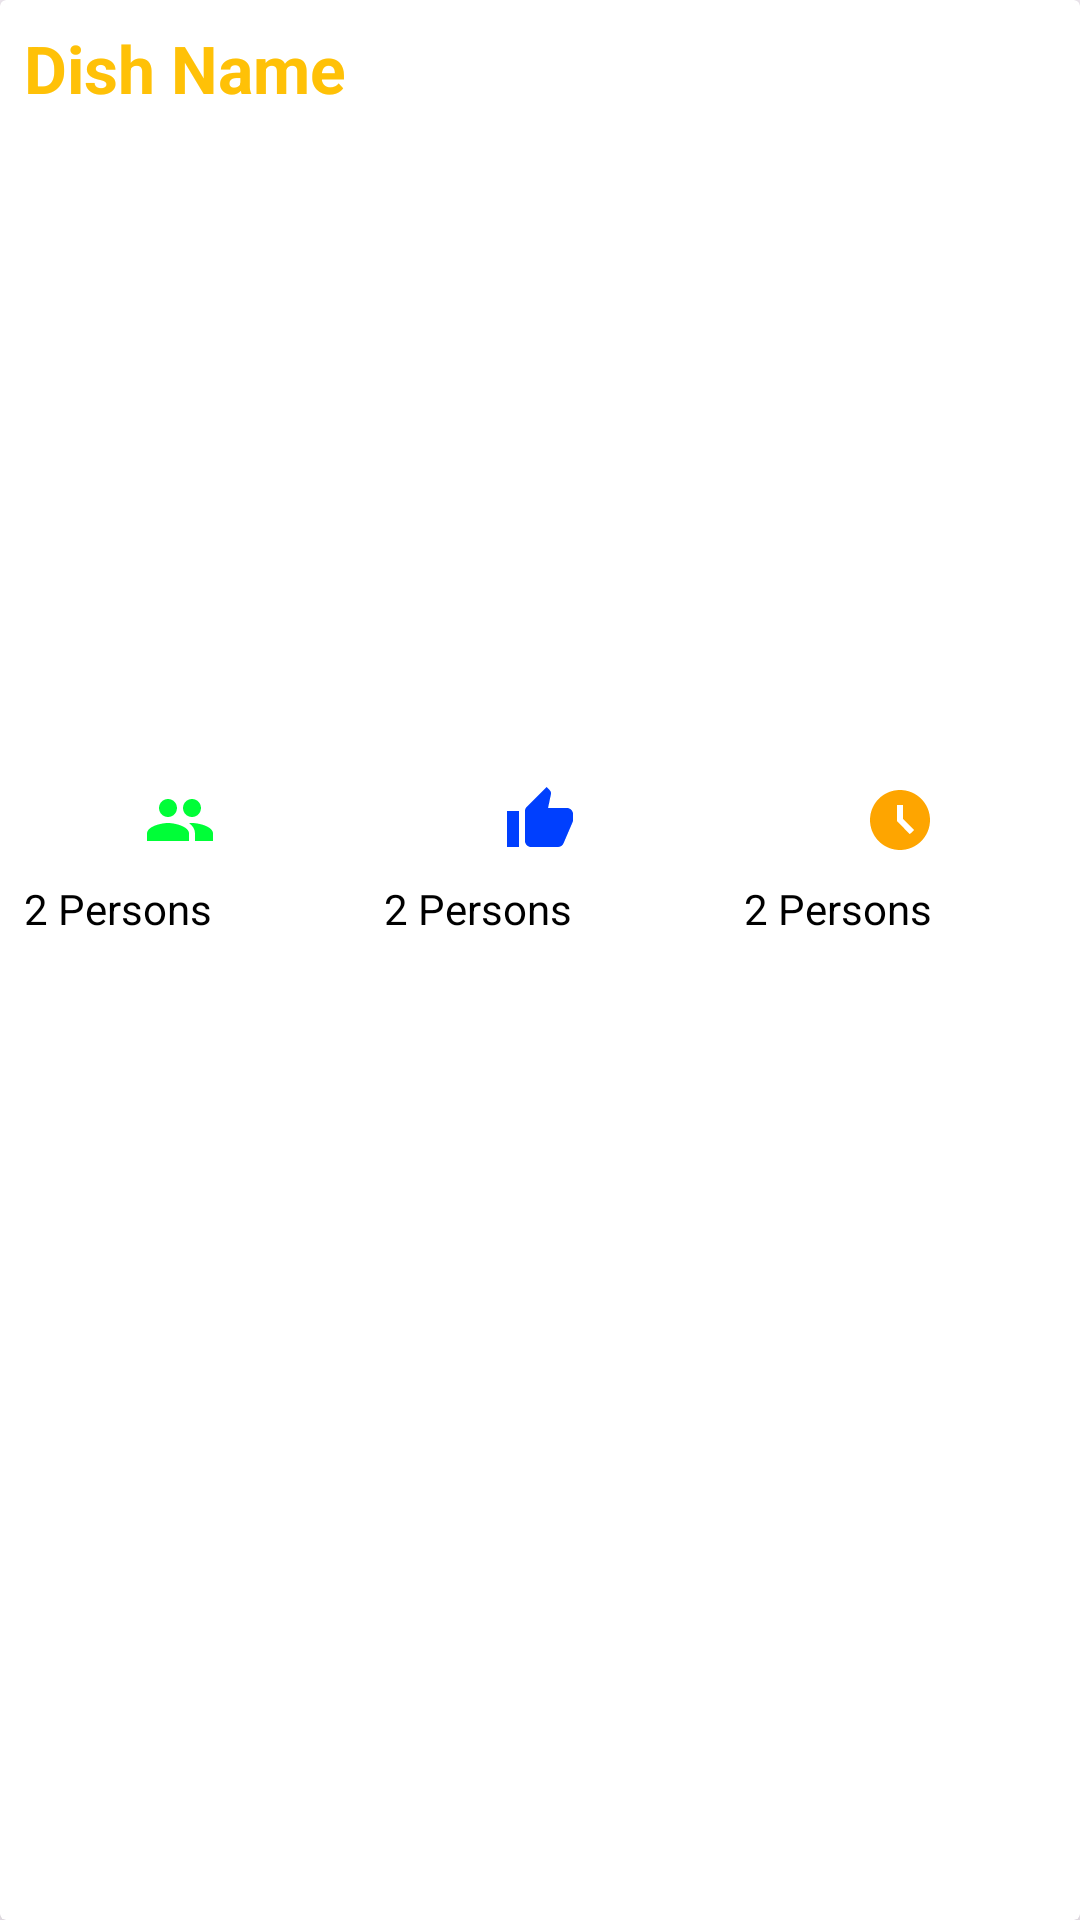

Icons on this 1080px x 1920px Android screen, each with its box as (x1, y1, x2, y2):
like: (507, 787, 573, 847)
servings: (147, 799, 213, 841)
time: (870, 790, 930, 850)
